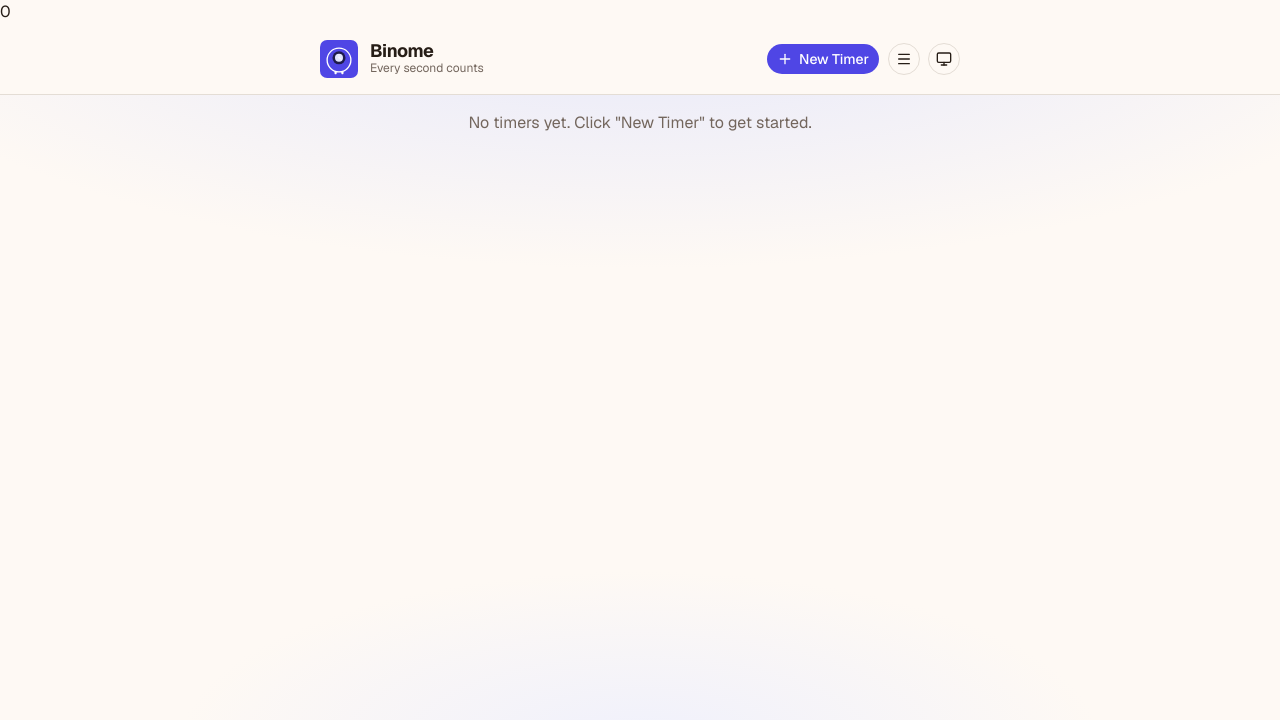
AppShell — integration › create timer via form › a timer created through the New Timer form appears in the list
The width and height of the screenshot is (1280, 720).
Click the button "New Timer" at x=823, y=59, box [766,43,880,75]
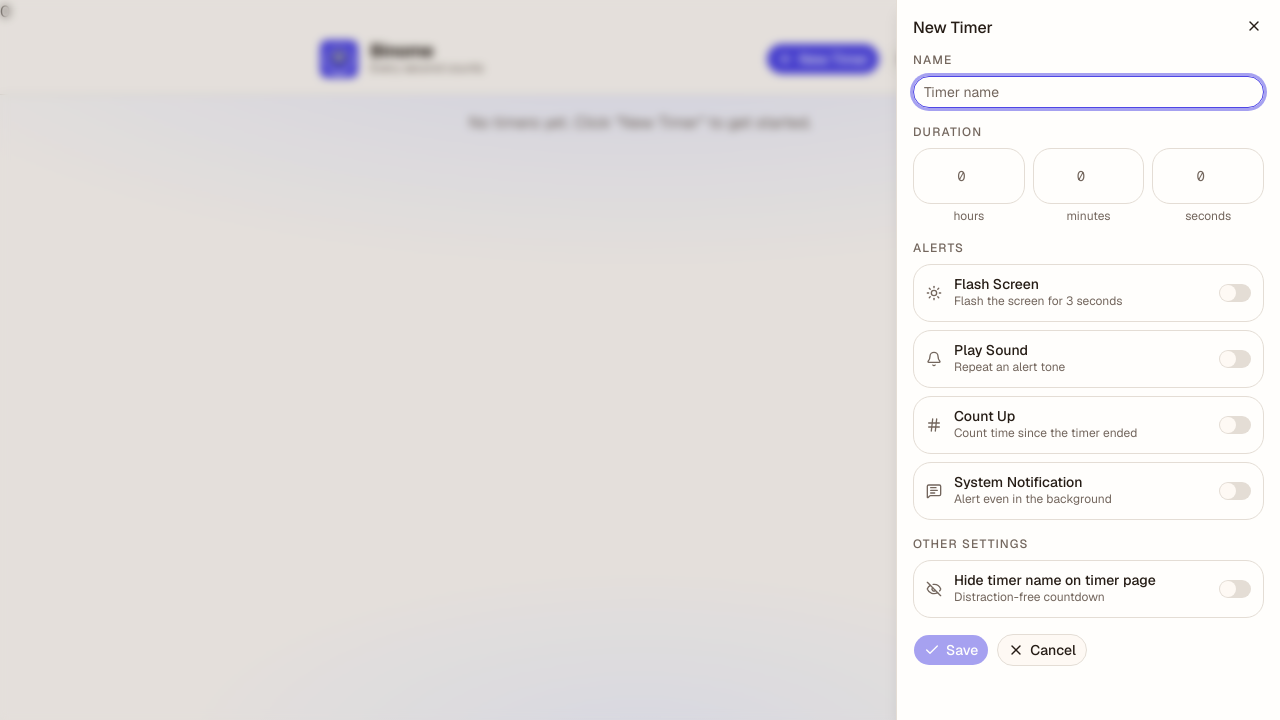
Type "My Work Session" into the field named "Timer name" at x=1088, y=92, box [913,76,1264,108]
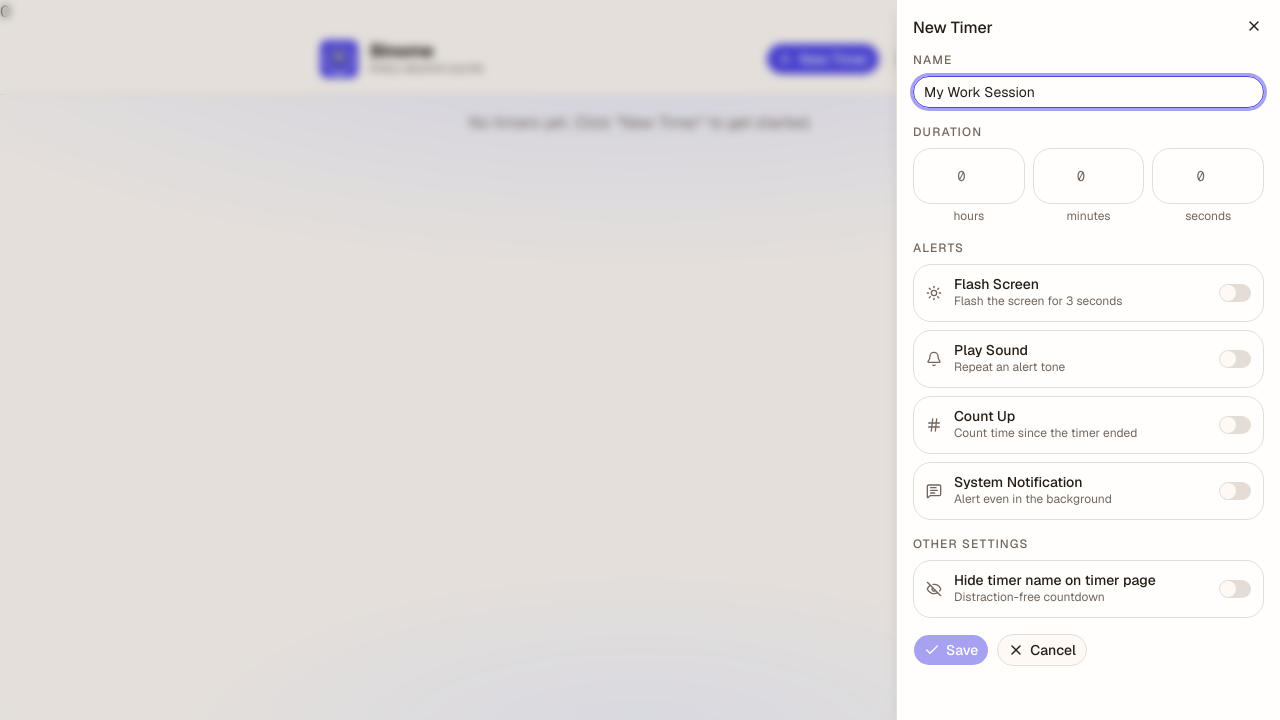
Type "25" into the number field labelled "minutes" at x=1089, y=176, box [1033,148,1144,204]
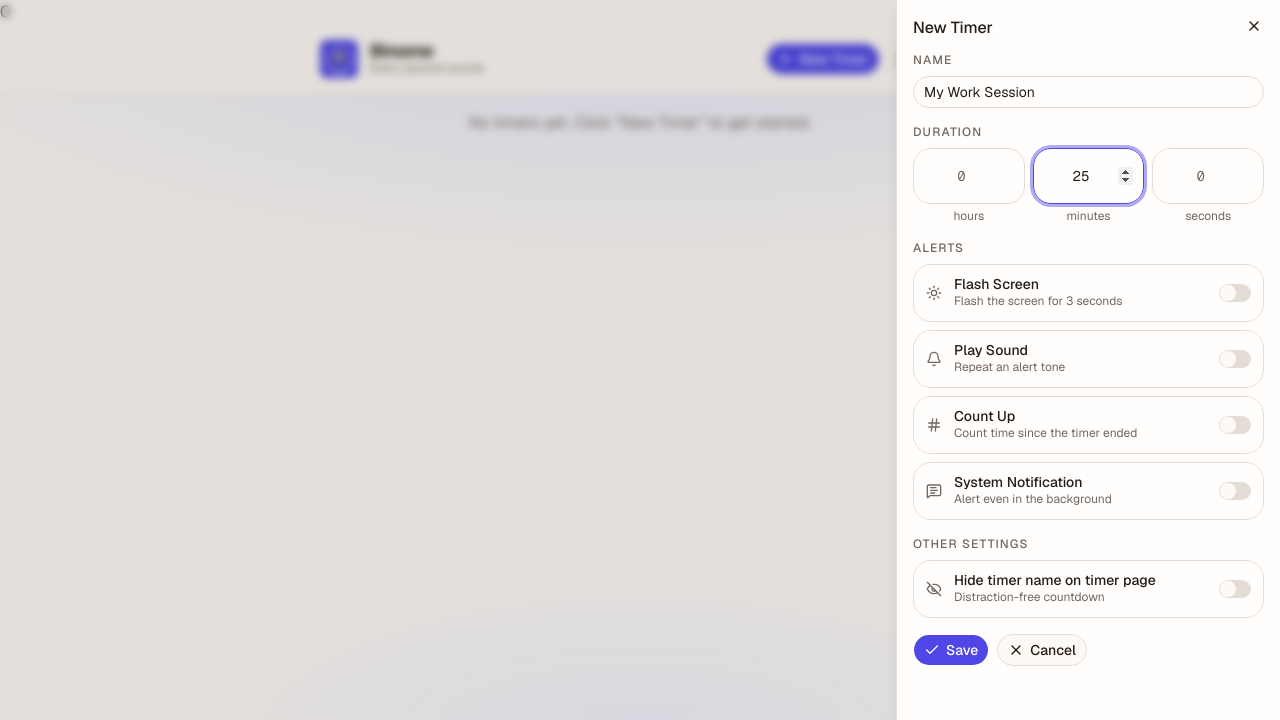
Click the button "Save" at x=951, y=650, box [913,634,989,666]
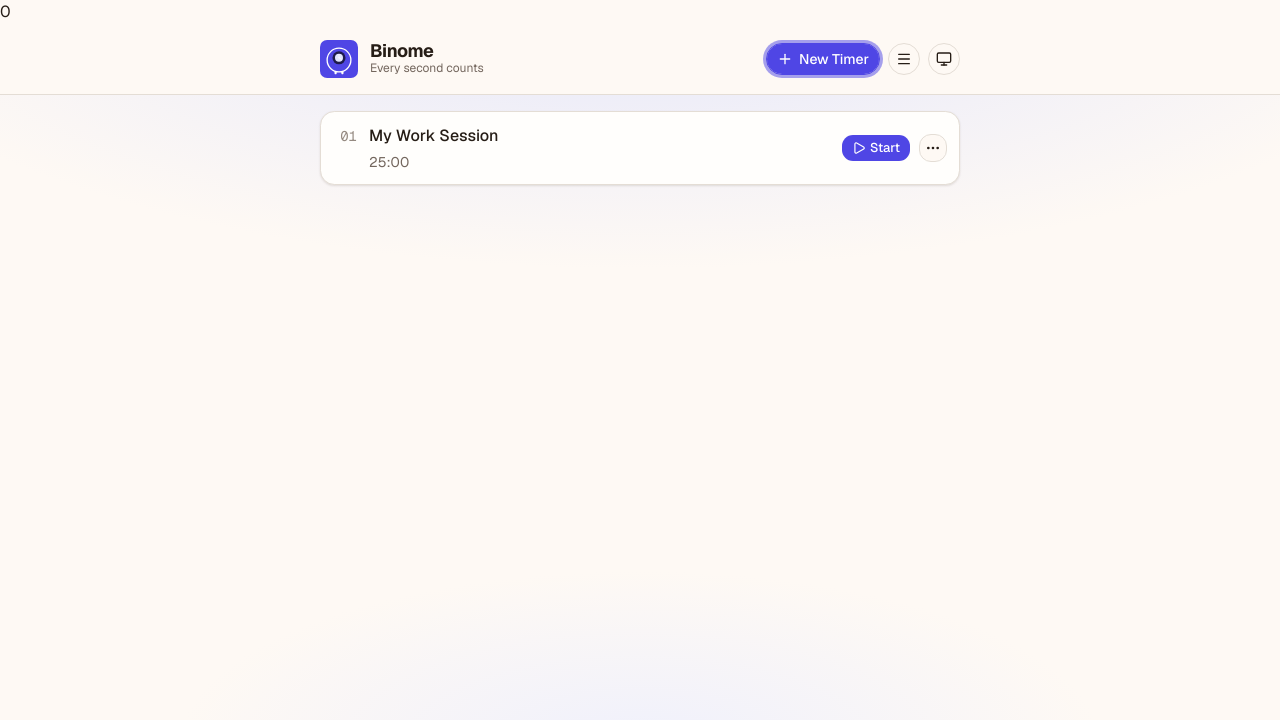
Now the text "My Work Session" is shown, box [369,124,498,148]
